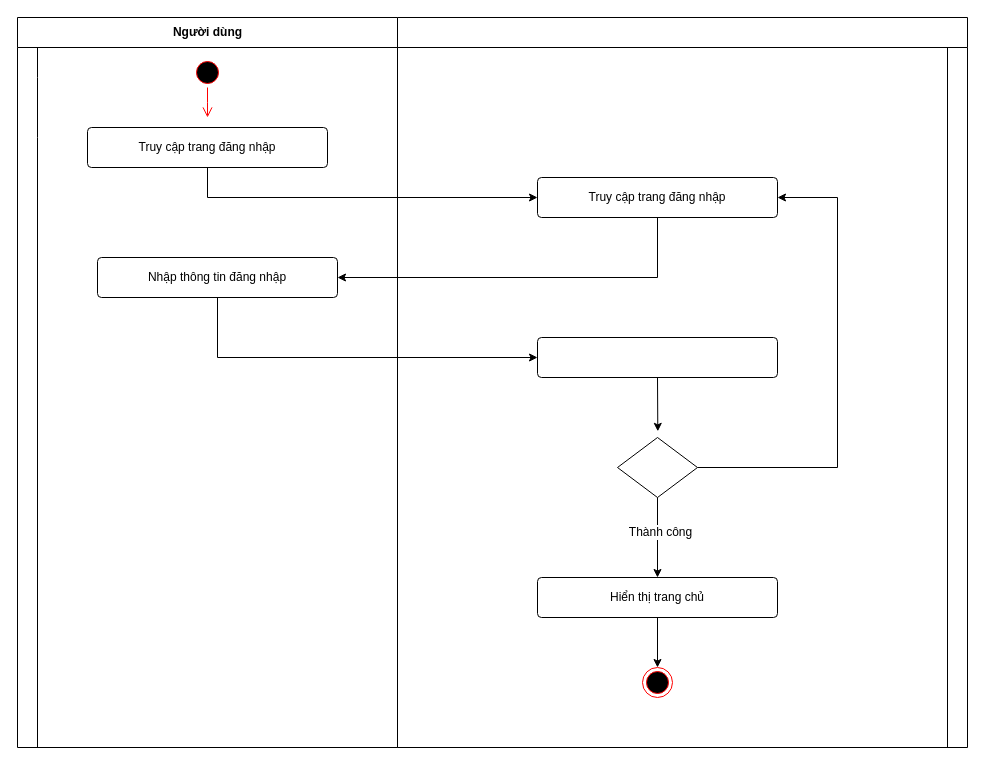
Some shapes in this 985 by 765 pixel diagram are drawn without their labels. The shapes that lost their labels are listed below. From the top down, each one's box as (x1, y1, x2, y2) in pixels, then its label:
(536, 336, 778, 378): Kiểm tra thông tin đăng nhập
(396, 16, 968, 748): Hệ thống
